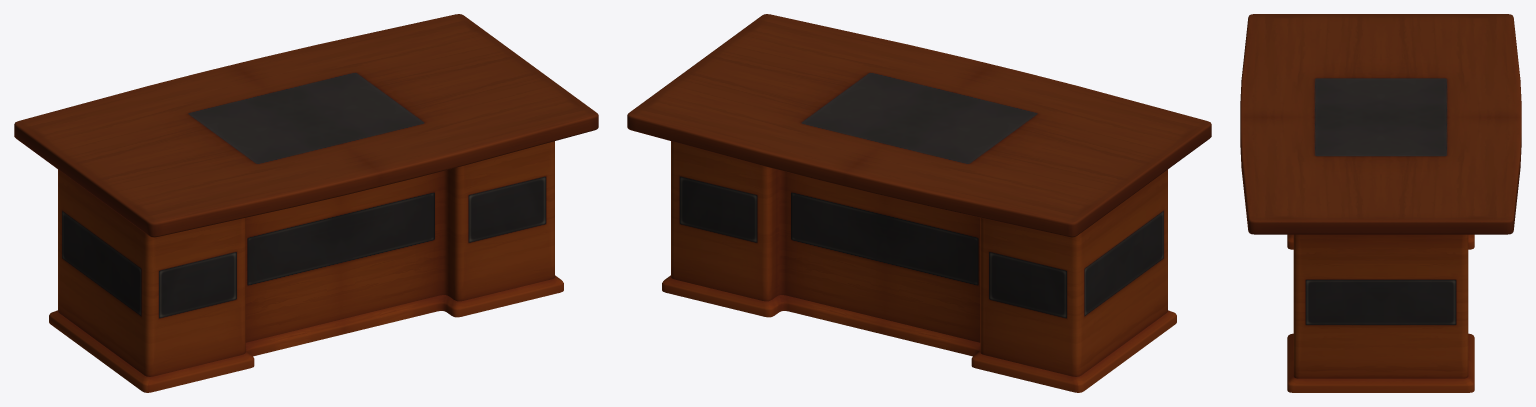
File: OfficeDesk02_5.FBX
The picture shows the model from 3 angles, left to right: view 1: azimuth 30°, elevation 25°; view 2: azimuth 150°, elevation 25°; view 3: azimuth 270°, elevation 25°; orthographic projection. The views are drawn at different scales.
Visible parts, largest first — view 1: OfficeDesk02_5; view 2: OfficeDesk02_5; view 3: OfficeDesk02_5.
Boxes of the visible parts, box(x1,y1,x2,y2) form: OfficeDesk02_5: box(14, 14, 598, 392); OfficeDesk02_5: box(627, 14, 1211, 392); OfficeDesk02_5: box(1240, 14, 1521, 392).
Size of what is drawn, in the model's own units: 2.25 by 0.9 by 1.29.
